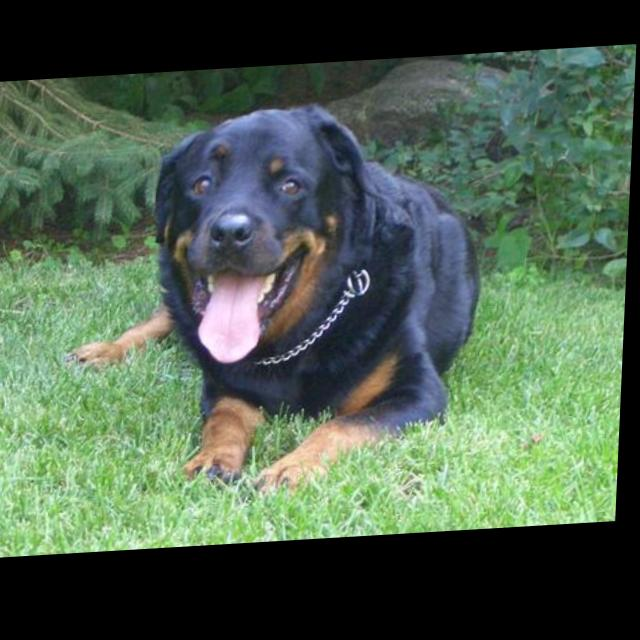rottweiler: (65, 97, 493, 512)
